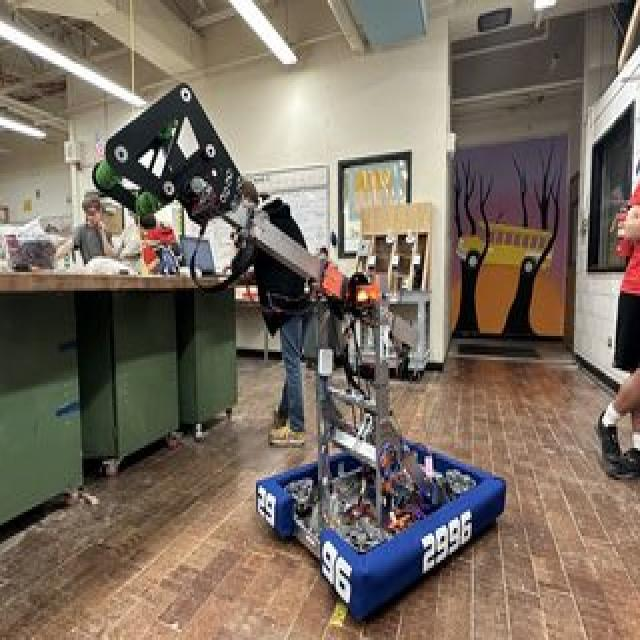robot: (68, 76, 583, 633)
